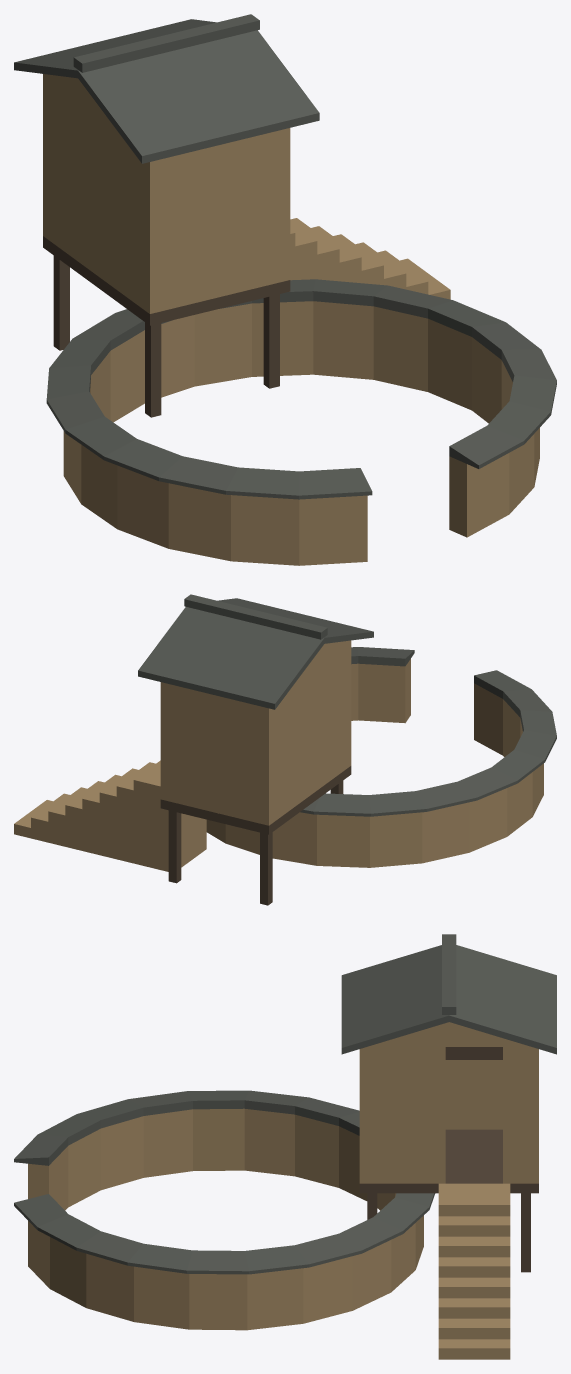
File: service-A-LOD2.glb
3 views of the same model, one above another, from view 1: azimuth 30°, elevation 25°; view 2: azimuth 150°, elevation 25°; view 3: azimuth 270°, elevation 25° (orthographic). The views are drawn at different scales.
Parts seen in each view (by area): view 1: service-A-static_earth, service-A-static_tile, service-A-static_timber; view 2: service-A-static_earth, service-A-static_tile, service-A-static_timber; view 3: service-A-static_earth, service-A-static_tile, service-A-static_timber.
Part boxes in pixels (x1,y1,x2,y2): service-A-static_earth: [43, 74, 539, 565]; service-A-static_tile: [14, 14, 556, 499]; service-A-static_timber: [43, 236, 290, 417]; service-A-static_earth: [14, 640, 543, 871]; service-A-static_tile: [138, 594, 556, 816]; service-A-static_timber: [160, 766, 351, 905]; service-A-static_earth: [28, 1022, 538, 1359]; service-A-static_tile: [14, 934, 556, 1274]; service-A-static_timber: [359, 1047, 538, 1272].
Size of the model in its own units: 6.73 by 4.23 by 7.56.
